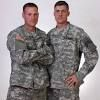uniform: (39, 20, 94, 100), (4, 21, 49, 99)
